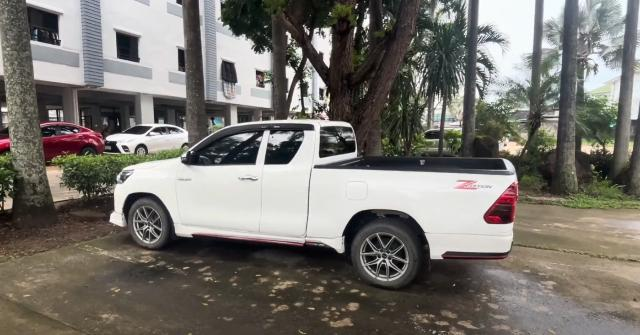pickup-truck: (109, 116, 517, 290)
